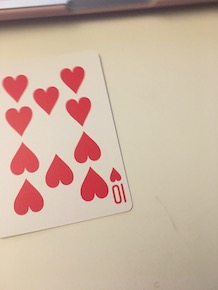TenOfHearts: (1, 48, 135, 241)
